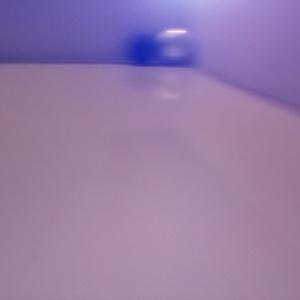alive_ball: (155, 27, 196, 61)
dead_ball: (126, 32, 157, 65)
